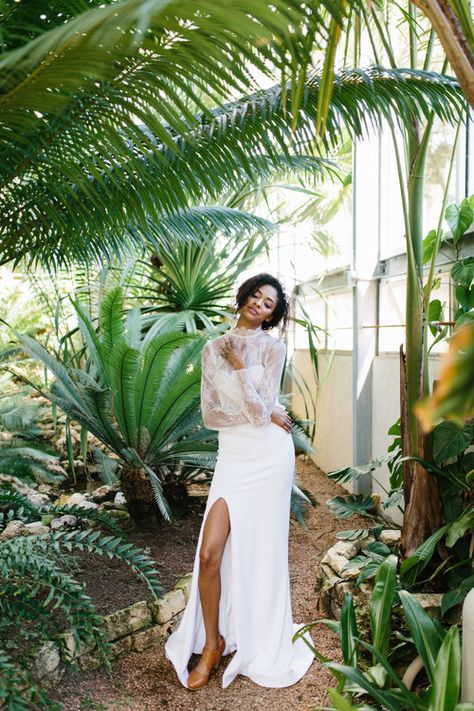person: (173, 273, 327, 696)
